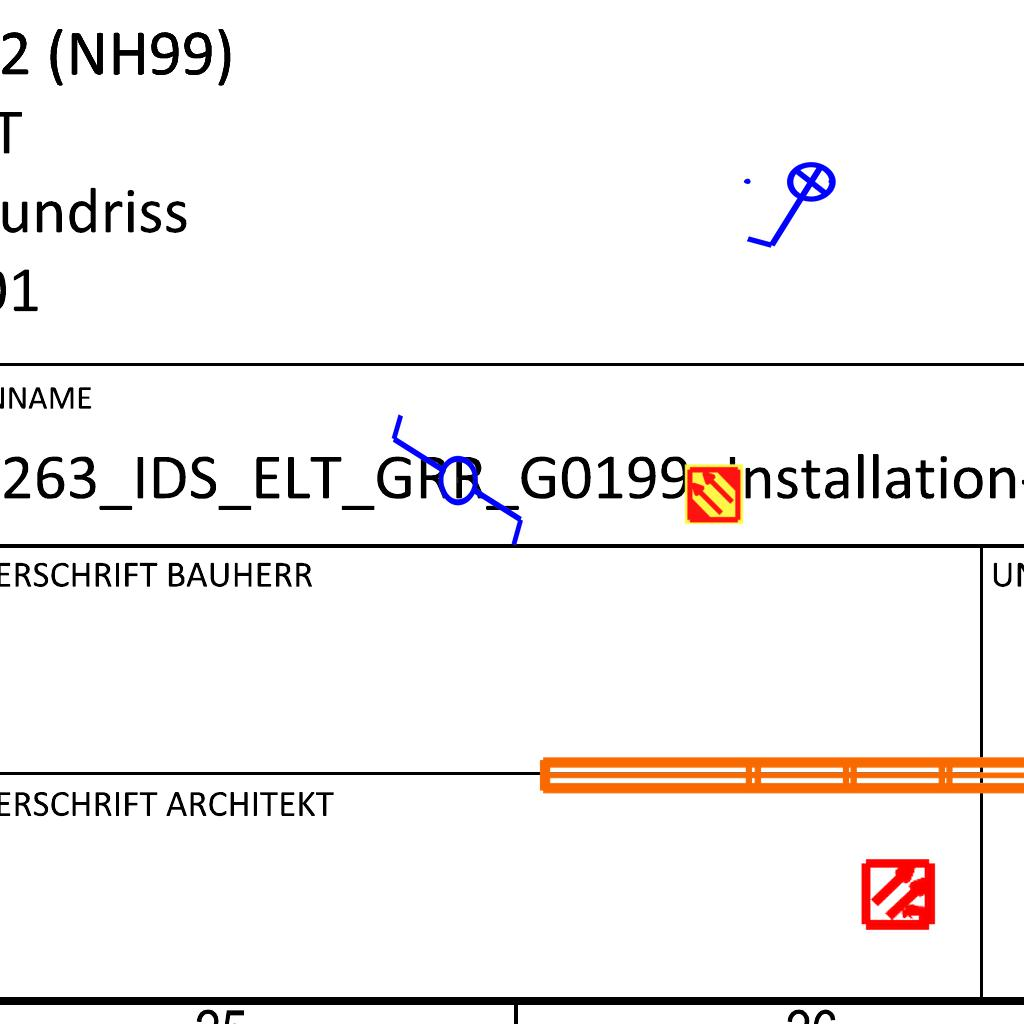ASR_Ansaugrauchmelder: (683, 463, 745, 525)
Ambulanz_Pendelleuchte_LED: (529, 694, 1024, 806)
Ausschalter_beleuchtet: (738, 160, 850, 256)
OT_Multisensormelder_(Kombination_RMO_WMD): (844, 838, 957, 951)
Wechselschalter: (384, 410, 528, 567)
